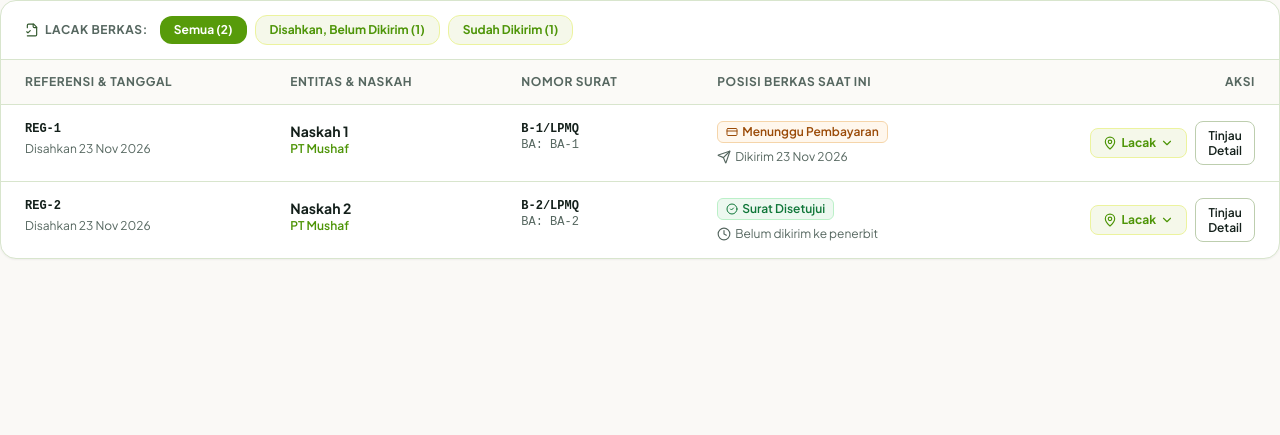
Test: VerificationHistoryTable (Riwayat lacak berkas) › menyaring belum/sudah dikirim dan membuka jejak bertanggal lewat tombol Lacak
Expected: the text "B-1/LPMQ" is shown, [521,122,579,136]
Expected: the text "BA: BA-1" is shown, [521,138,579,152]
Click the button "Disahkan, Belum Dikirim (1)" at point(347, 30), box [255,15,440,45]
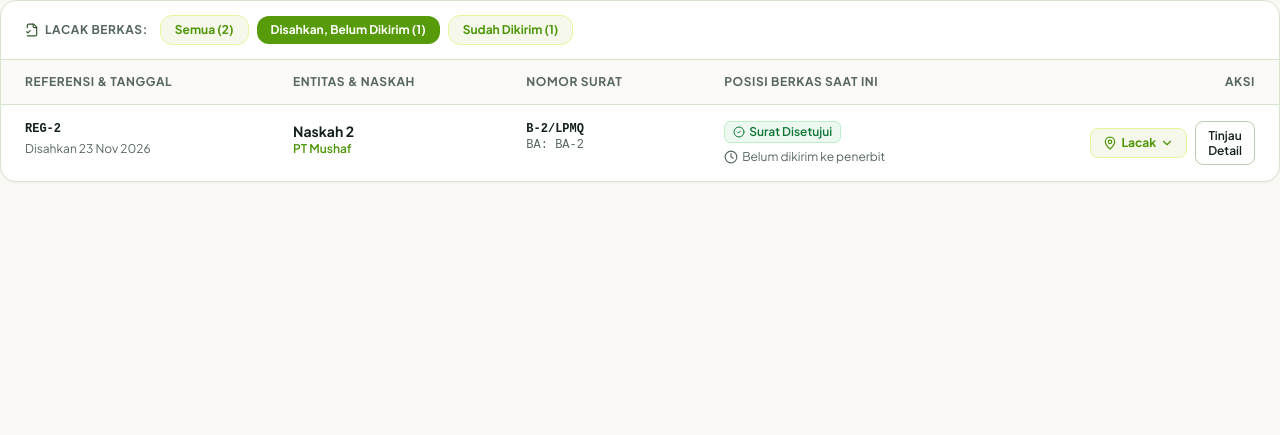
Expected: the text "Belum dikirim ke penerbit" is shown, [724,149,885,164]
Expected: the text "REG-1" is gone
Click the button "Semua (2)" at point(204, 30), box [160,15,249,45]
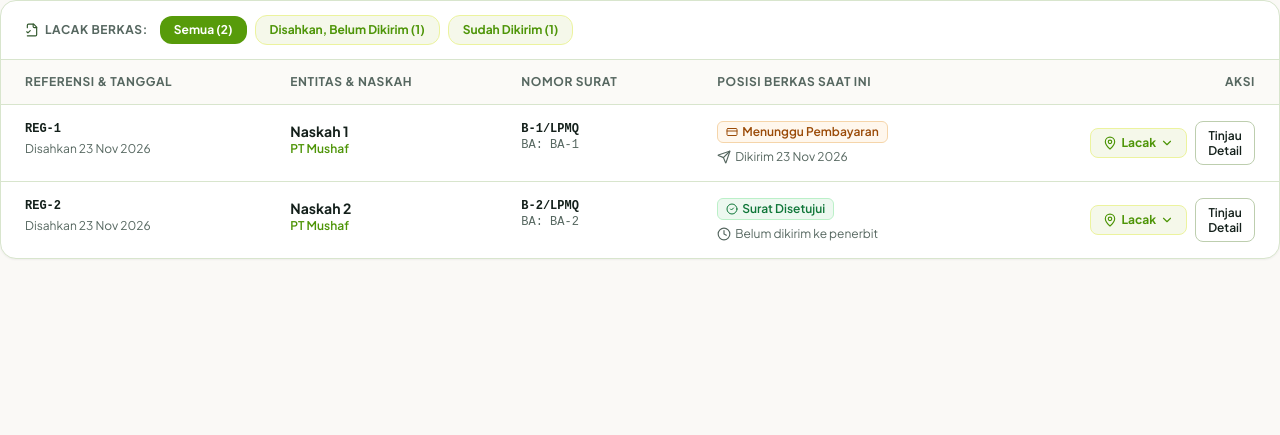
Click the button "Lacak" in the row of "REG-1" at point(1139, 143), box [1090,128,1187,158]
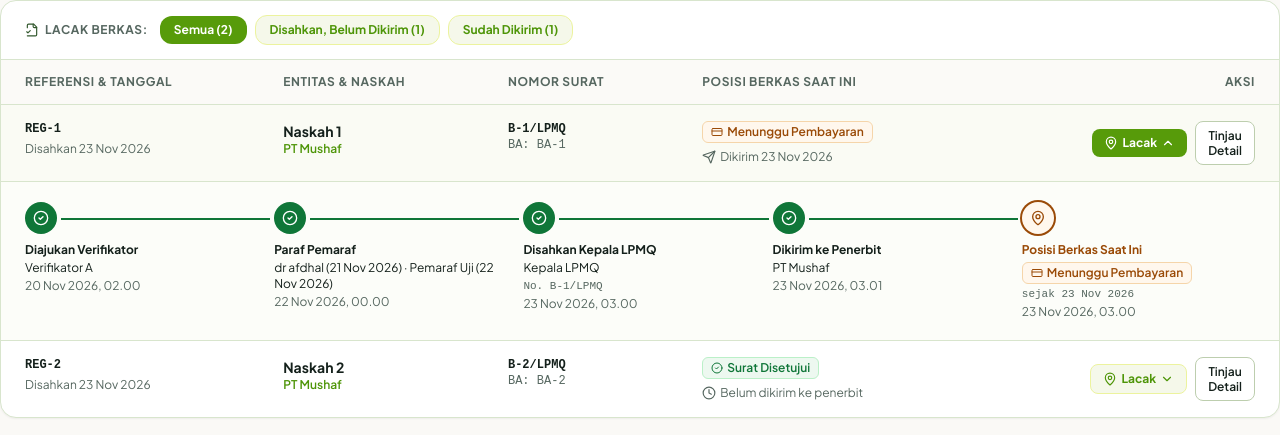
Expected: the button "Lacak" in the row of "REG-1" is expanded, [1092,129,1187,157]
Expected: the text "dr afdhal (21 Nov 2026) · Pemaraf Uji (22 Nov 2026)" is shown, [274,260,507,292]
Expected: the text "No. B-1/LPMQ" is shown, [523,280,603,292]
